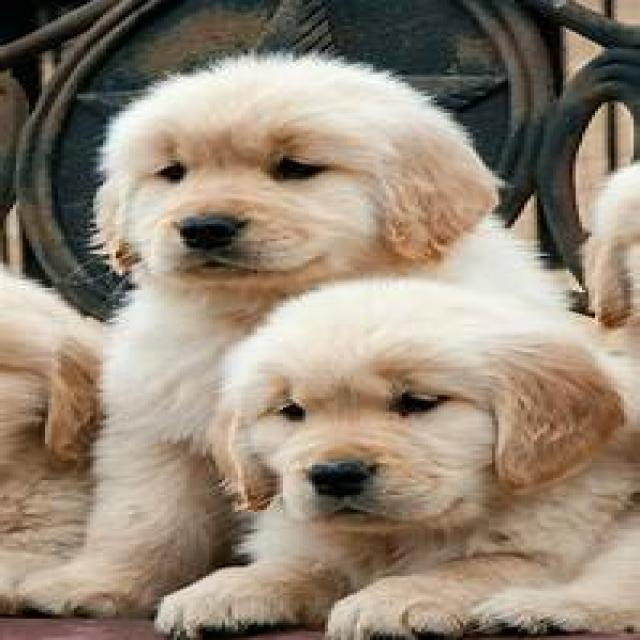dog: (19, 55, 498, 612), (154, 279, 640, 640)
